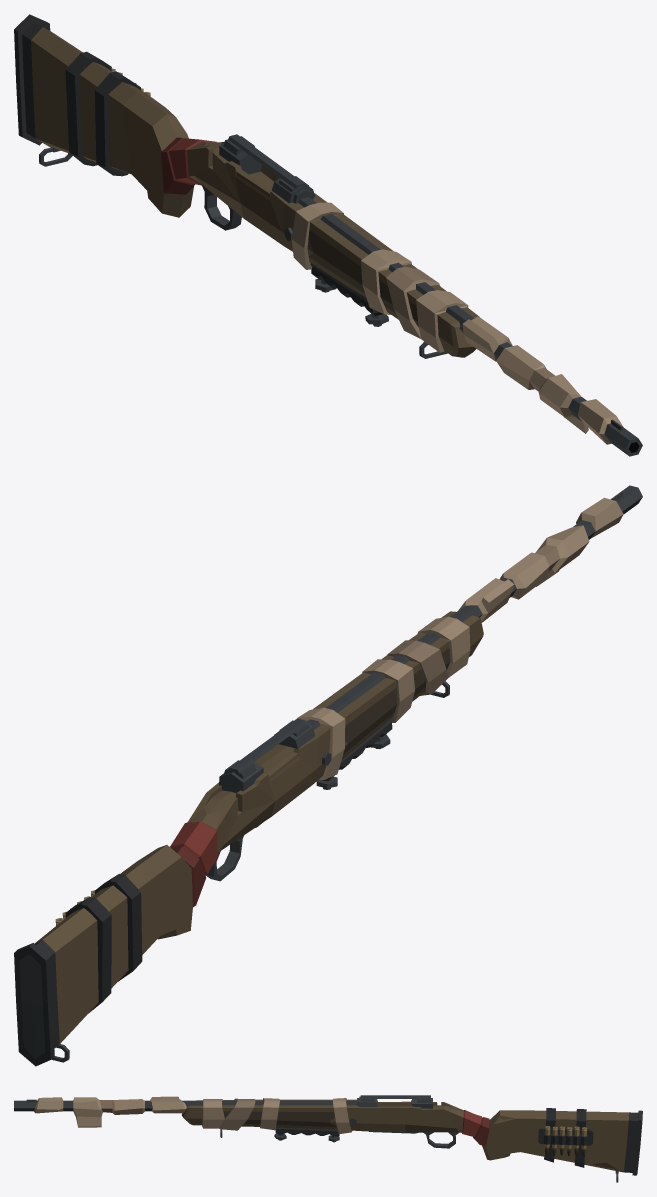
Rendered from gun_L.fbx.
The picture shows the model from 3 angles, top to bottom: view 1: azimuth 30°, elevation 25°; view 2: azimuth 150°, elevation 25°; view 3: azimuth 270°, elevation 25°; orthographic projection. The views are drawn at different scales.
Visible parts, largest first — view 1: SM_Wep_HuntingRifle_01; view 2: SM_Wep_HuntingRifle_01; view 3: SM_Wep_HuntingRifle_01.
Part boxes in pixels (x1,y1,x2,y2): SM_Wep_HuntingRifle_01: (14,14,642,456); SM_Wep_HuntingRifle_01: (14,485,642,1066); SM_Wep_HuntingRifle_01: (14,1095,642,1182).
Size of the model in its own units: 5.29 by 15.47 by 106.
